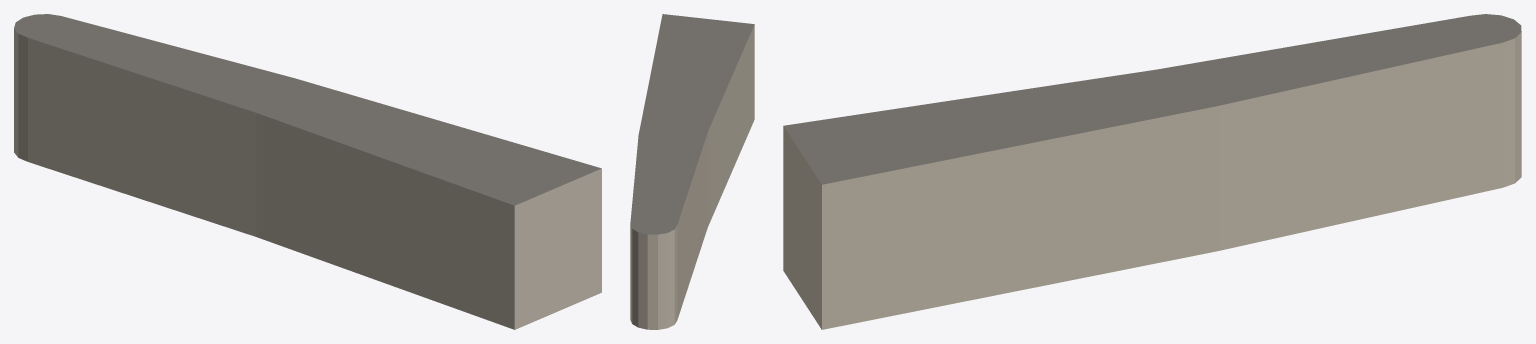
3 views of the same model, side by side, from view 1: azimuth 30°, elevation 25°; view 2: azimuth 150°, elevation 25°; view 3: azimuth 270°, elevation 25° (orthographic). The views are drawn at different scales.
Visible parts, largest first — view 1: HP-w859488816; view 2: HP-w859488816; view 3: HP-w859488816.
Boxes of the visible parts, bbox=[...] form: HP-w859488816: bbox=[14, 14, 601, 329]; HP-w859488816: bbox=[630, 14, 754, 329]; HP-w859488816: bbox=[783, 14, 1521, 329].
Size of the model in its own units: 45.43 by 18 by 82.96.
